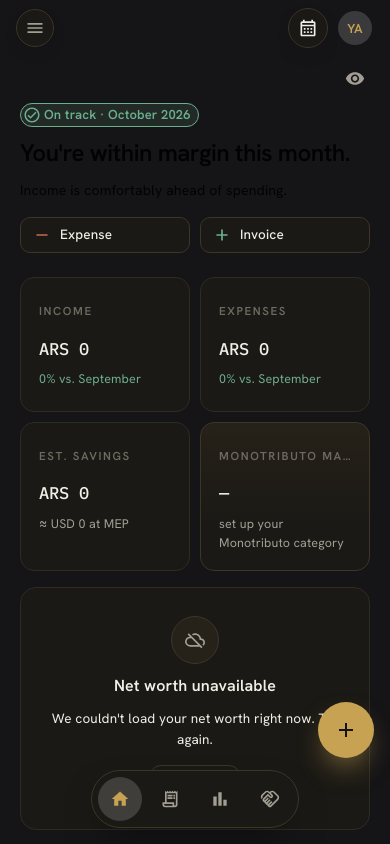
tapping a drawer nav item navigates and closes the drawer (ADR-172)
The image size is (390, 844).
Click the button named "Open menu": (35,28) [16,9,54,47]
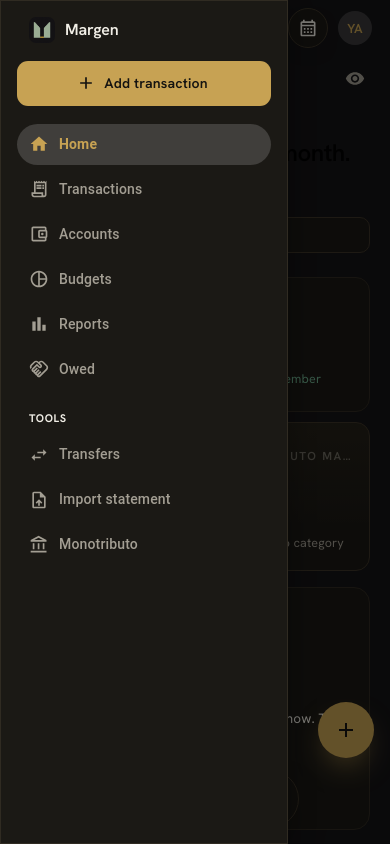
Click the link "Accounts": (74,234) [29,224,120,244]
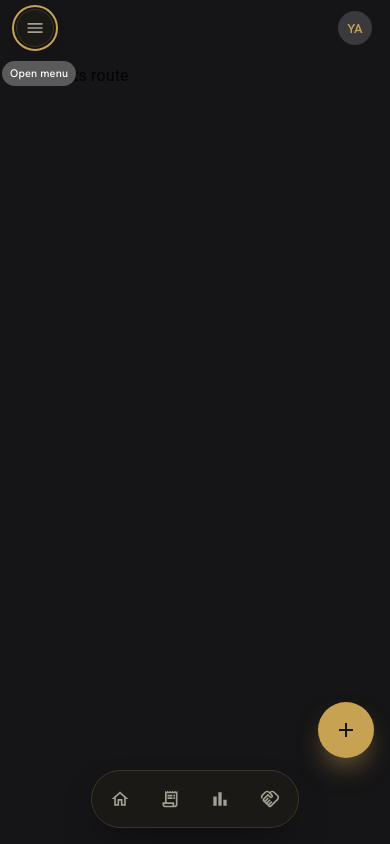
Expected: the text "accounts route" is shown, [20,66,129,85]
